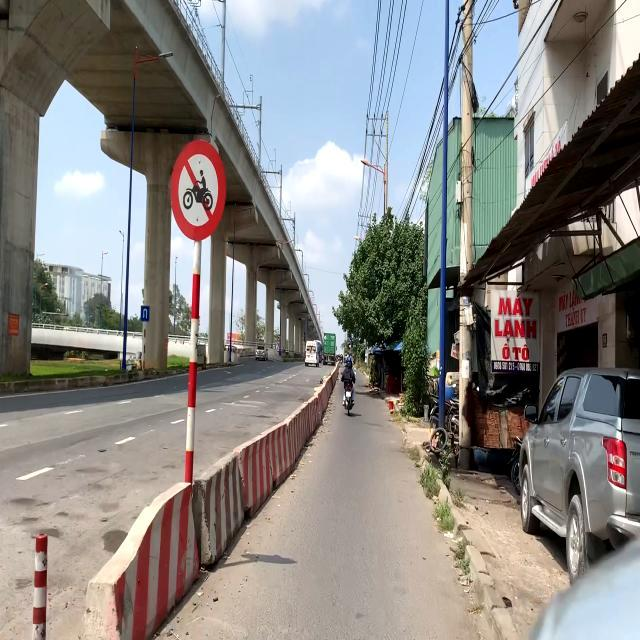Cho quay xe: (140, 304, 150, 322)
